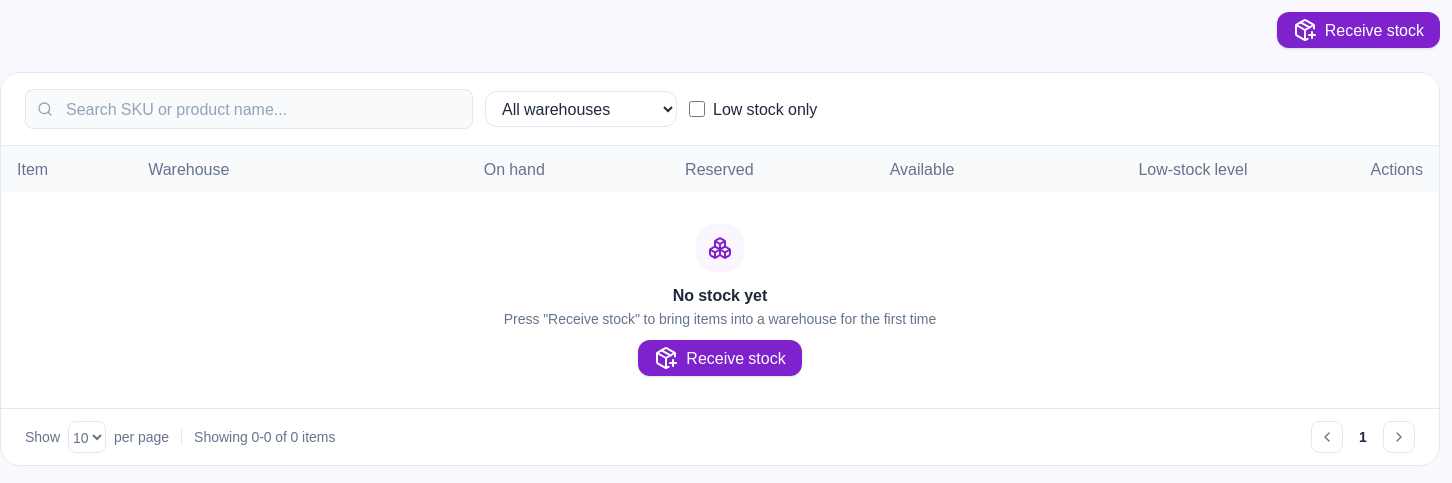
Test: StockLevels › ວ່າງ: empty state ພ້ອມຄຳແນະນຳ; ມີ filter: ບໍ່ພົບ
Check: the text "No stock yet" is shown, box [673,282,767,308]
Type "zzz" into the search field with placeholder "Search SKU or product name..." at {"x": 249, "y": 109}, box [25,89,473,129]
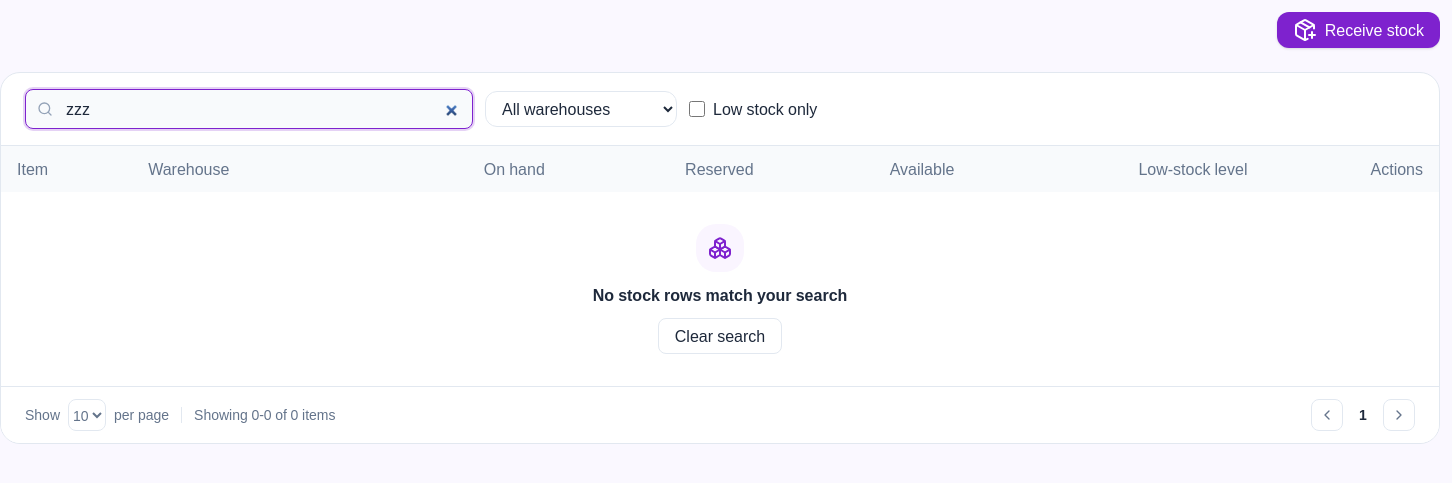
Check: the text "No stock rows match your search" is shown, box [593,284,847,306]
